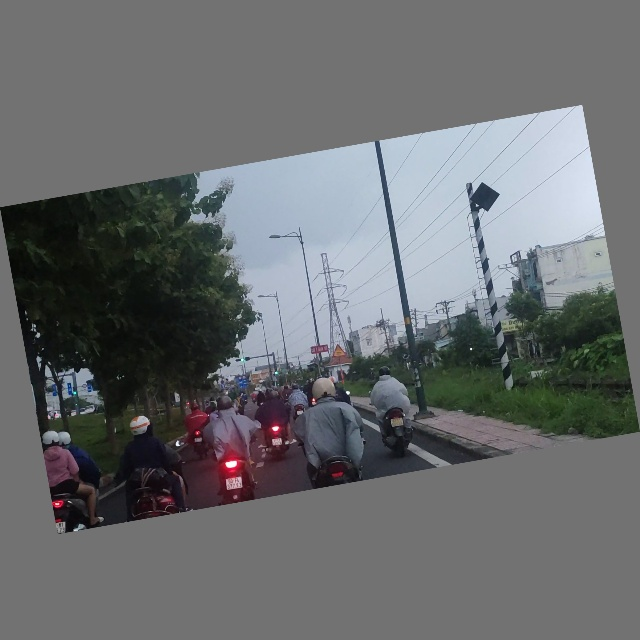W.210: (330, 343, 347, 359)
